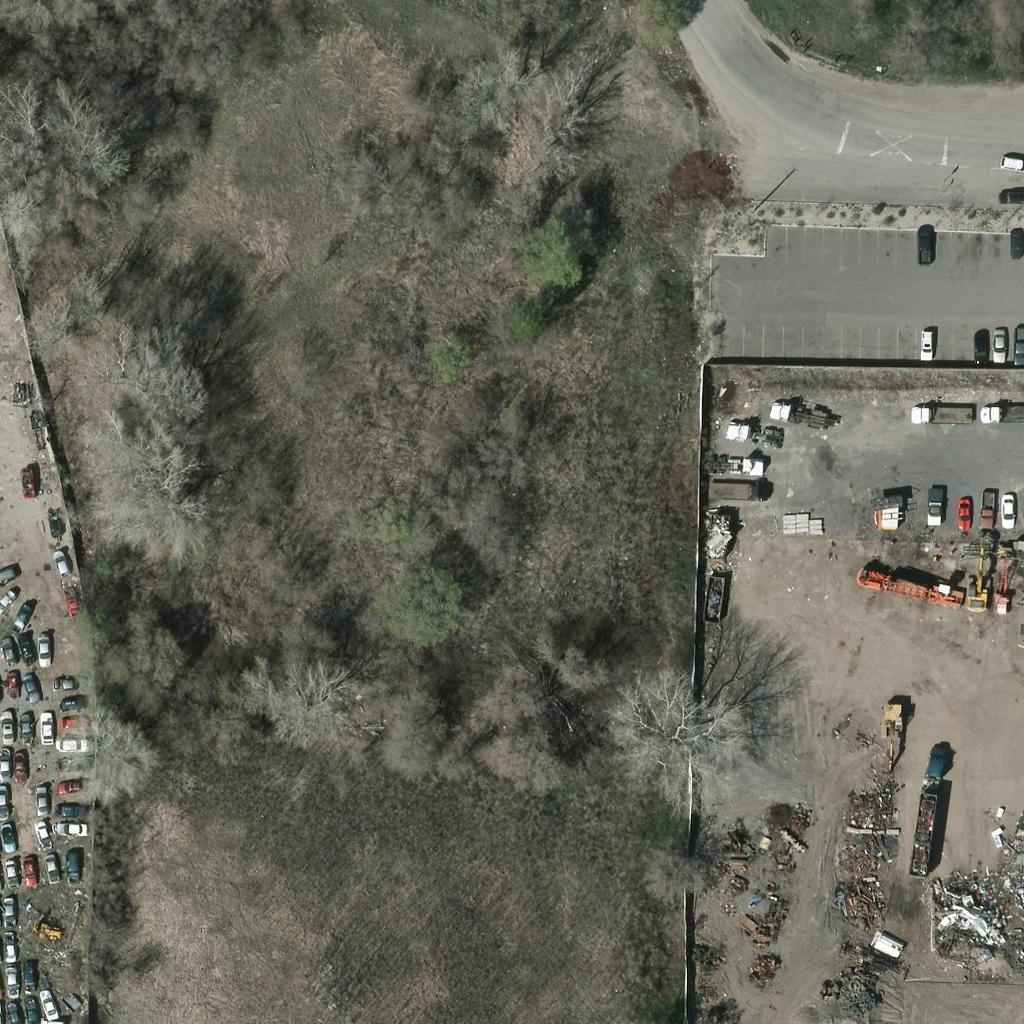car: (906, 222, 940, 256), (909, 324, 943, 358), (982, 327, 1016, 361), (963, 328, 997, 362), (916, 492, 950, 526), (945, 495, 979, 529), (970, 495, 1004, 529), (45, 547, 79, 581), (4, 599, 38, 633), (27, 630, 61, 664), (8, 633, 42, 667), (14, 667, 48, 701), (54, 684, 88, 718), (54, 704, 88, 738), (9, 708, 43, 742), (56, 727, 90, 761), (2, 748, 36, 782), (58, 767, 92, 801), (25, 783, 59, 817), (54, 791, 88, 825), (54, 810, 88, 844), (24, 815, 58, 849), (57, 845, 91, 879), (34, 847, 68, 881), (9, 850, 43, 884), (11, 958, 45, 992), (31, 987, 65, 1021), (991, 491, 1024, 525), (994, 180, 1024, 214), (0, 663, 28, 697), (0, 959, 28, 993), (997, 145, 1024, 179), (0, 892, 27, 926), (0, 710, 26, 744), (0, 819, 26, 853), (0, 852, 26, 886), (0, 635, 25, 669), (0, 995, 28, 1024), (1002, 330, 1024, 364), (0, 583, 21, 617), (0, 748, 20, 782), (0, 782, 19, 816), (0, 558, 18, 592)
